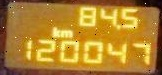-: (115, 23, 119, 29)
0: (82, 40, 102, 63), (59, 39, 78, 62)
1: (24, 39, 32, 60)
2: (34, 39, 55, 60)
4: (105, 42, 126, 63), (99, 7, 117, 26)
5: (119, 8, 137, 28)
7: (131, 43, 150, 64)
8: (78, 6, 96, 26)
X: (59, 29, 72, 37), (51, 26, 59, 36)
